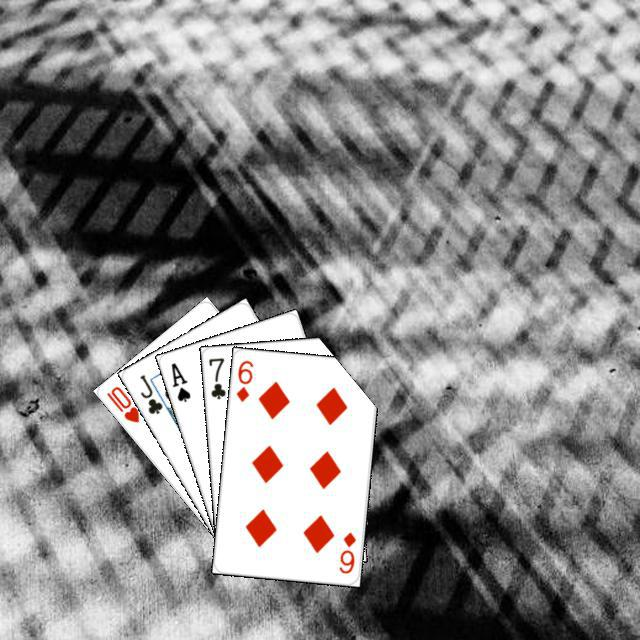10h: (101, 381, 141, 424)
6d: (232, 355, 255, 404), (334, 527, 357, 575)
7c: (204, 353, 227, 401)
As: (166, 358, 192, 404)
Jc: (135, 369, 165, 416)
